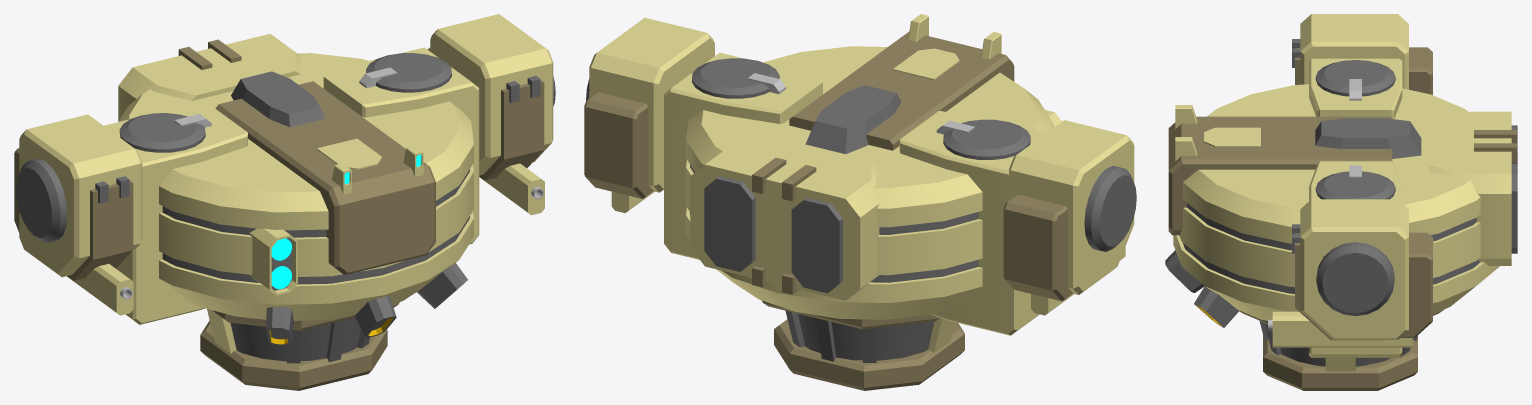
Rendered from 'Snail' MGChest.fbx.
The picture shows the model from 3 angles, left to right: view 1: azimuth 30°, elevation 25°; view 2: azimuth 150°, elevation 25°; view 3: azimuth 270°, elevation 25°; orthographic projection. The views are drawn at different scales.
Parts seen in each view (by area): view 1: pCylinder22, pCube64, pCube95, pCube71, pCube65, pCube72 (×2), pCube73, pCube63, pCube81, pCylinder23, pCube69, pCylinder26 (+14 smaller); view 2: pCylinder22, pCube73, pCube95, pCube65, pCube64, pCube71, pCube63, pCube97, pCube98, pCube81, pCube89, pCube90 (+14 smaller); view 3: pCylinder22, pCube71, pCube64, pCube73, pCube95, pCylinder23, pCube81, pCube69, pCube65, pCube63, pCube97, pCube96 (+14 smaller).
Part boxes in pixels (x1,y1,x2,y2): pCylinder22: [118, 53, 473, 320]; pCube64: [215, 81, 435, 275]; pCube95: [19, 114, 142, 277]; pCube71: [430, 14, 553, 175]; pCube65: [104, 104, 247, 324]; pCube72 (×2): [67, 80, 544, 280]; pCube73: [118, 33, 300, 120]; pCube63: [323, 47, 479, 244]; pCube81: [200, 321, 387, 390]; pCylinder23: [16, 158, 67, 242]; pCube69: [231, 71, 324, 127]; pCylinder26: [230, 317, 360, 361]; pCylinder22: [686, 46, 1053, 319]; pCube73: [690, 136, 879, 300]; pCube95: [1009, 120, 1134, 294]; pCube65: [899, 111, 1046, 335]; pCube64: [789, 31, 1014, 150]; pCube71: [589, 17, 714, 192]; pCube63: [664, 52, 822, 259]; pCube97: [584, 92, 653, 198]; pCube98: [1003, 194, 1072, 301]; pCube81: [774, 319, 964, 390]; pCube89: [704, 176, 755, 271]; pCube90: [791, 197, 842, 293]; pCylinder22: [1173, 84, 1499, 320]; pCube71: [1300, 199, 1408, 339]; pCube64: [1168, 116, 1392, 235]; pCube73: [1429, 111, 1511, 265]; pCube95: [1300, 14, 1408, 89]; pCylinder23: [1316, 242, 1394, 315]; pCube81: [1263, 335, 1417, 390]; pCube69: [1315, 118, 1421, 158]; pCube65: [1309, 58, 1402, 119]; pCube63: [1309, 161, 1402, 357]; pCube97: [1401, 232, 1432, 337]; pCube96: [1272, 311, 1412, 347].
Size of the model in its own units: 12.51 by 6.15 by 8.2.
